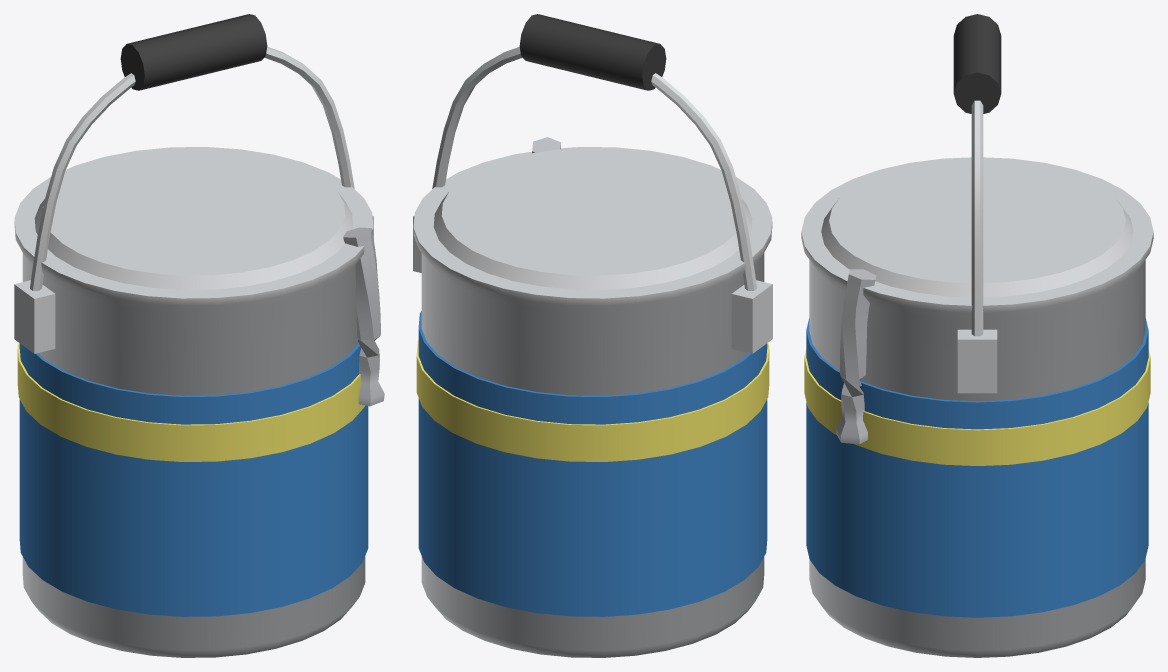
The model's file is SM_SealantCan.fbx.
The picture shows the model from 3 angles, left to right: view 1: azimuth 30°, elevation 25°; view 2: azimuth 150°, elevation 25°; view 3: azimuth 270°, elevation 25°; orthographic projection. The views are drawn at different scales.
Parts seen in each view (by area): view 1: SM_SealantCan; view 2: SM_SealantCan; view 3: SM_SealantCan.
Boxes of the visible parts, <box> form: SM_SealantCan: <box>14,14,384,657</box>; SM_SealantCan: <box>413,14,772,657</box>; SM_SealantCan: <box>801,14,1153,657</box>.
Size of the model in its own units: 0.194 by 0.305 by 0.178.
